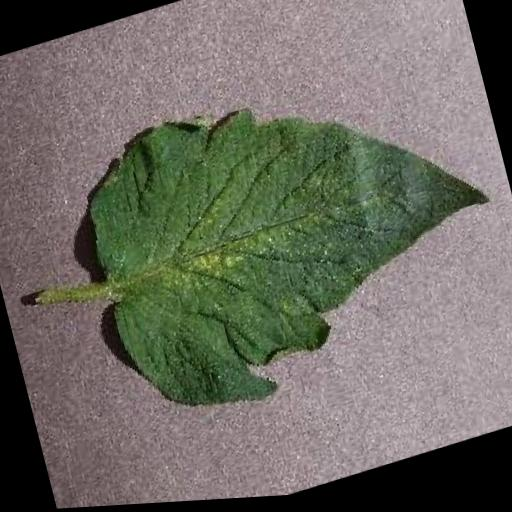Spider Mites: (68, 37, 512, 440)
